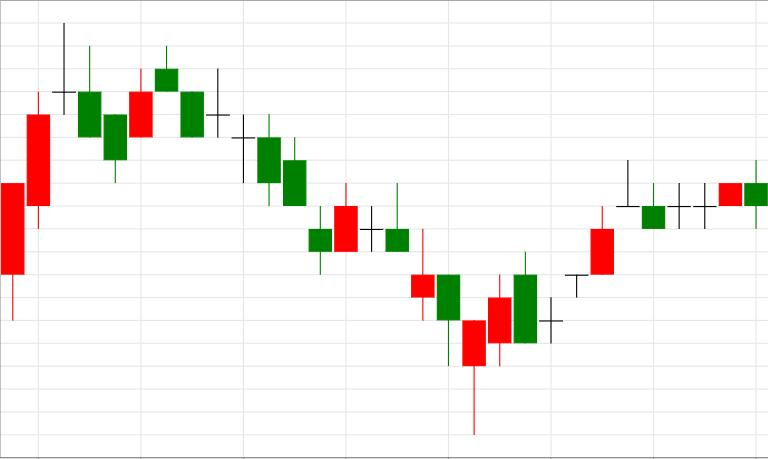hammer_rise: (359, 183, 486, 434)
